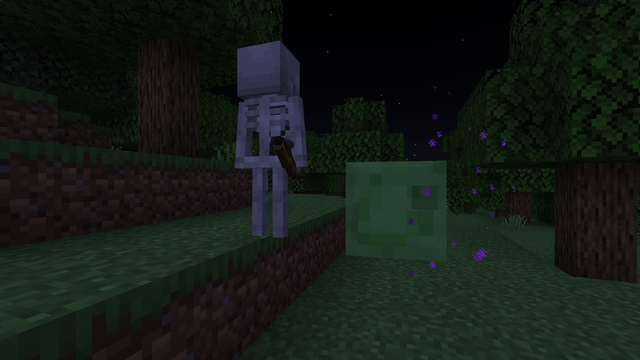slimes: (339, 156, 443, 264)
squelettes: (230, 37, 305, 243)
